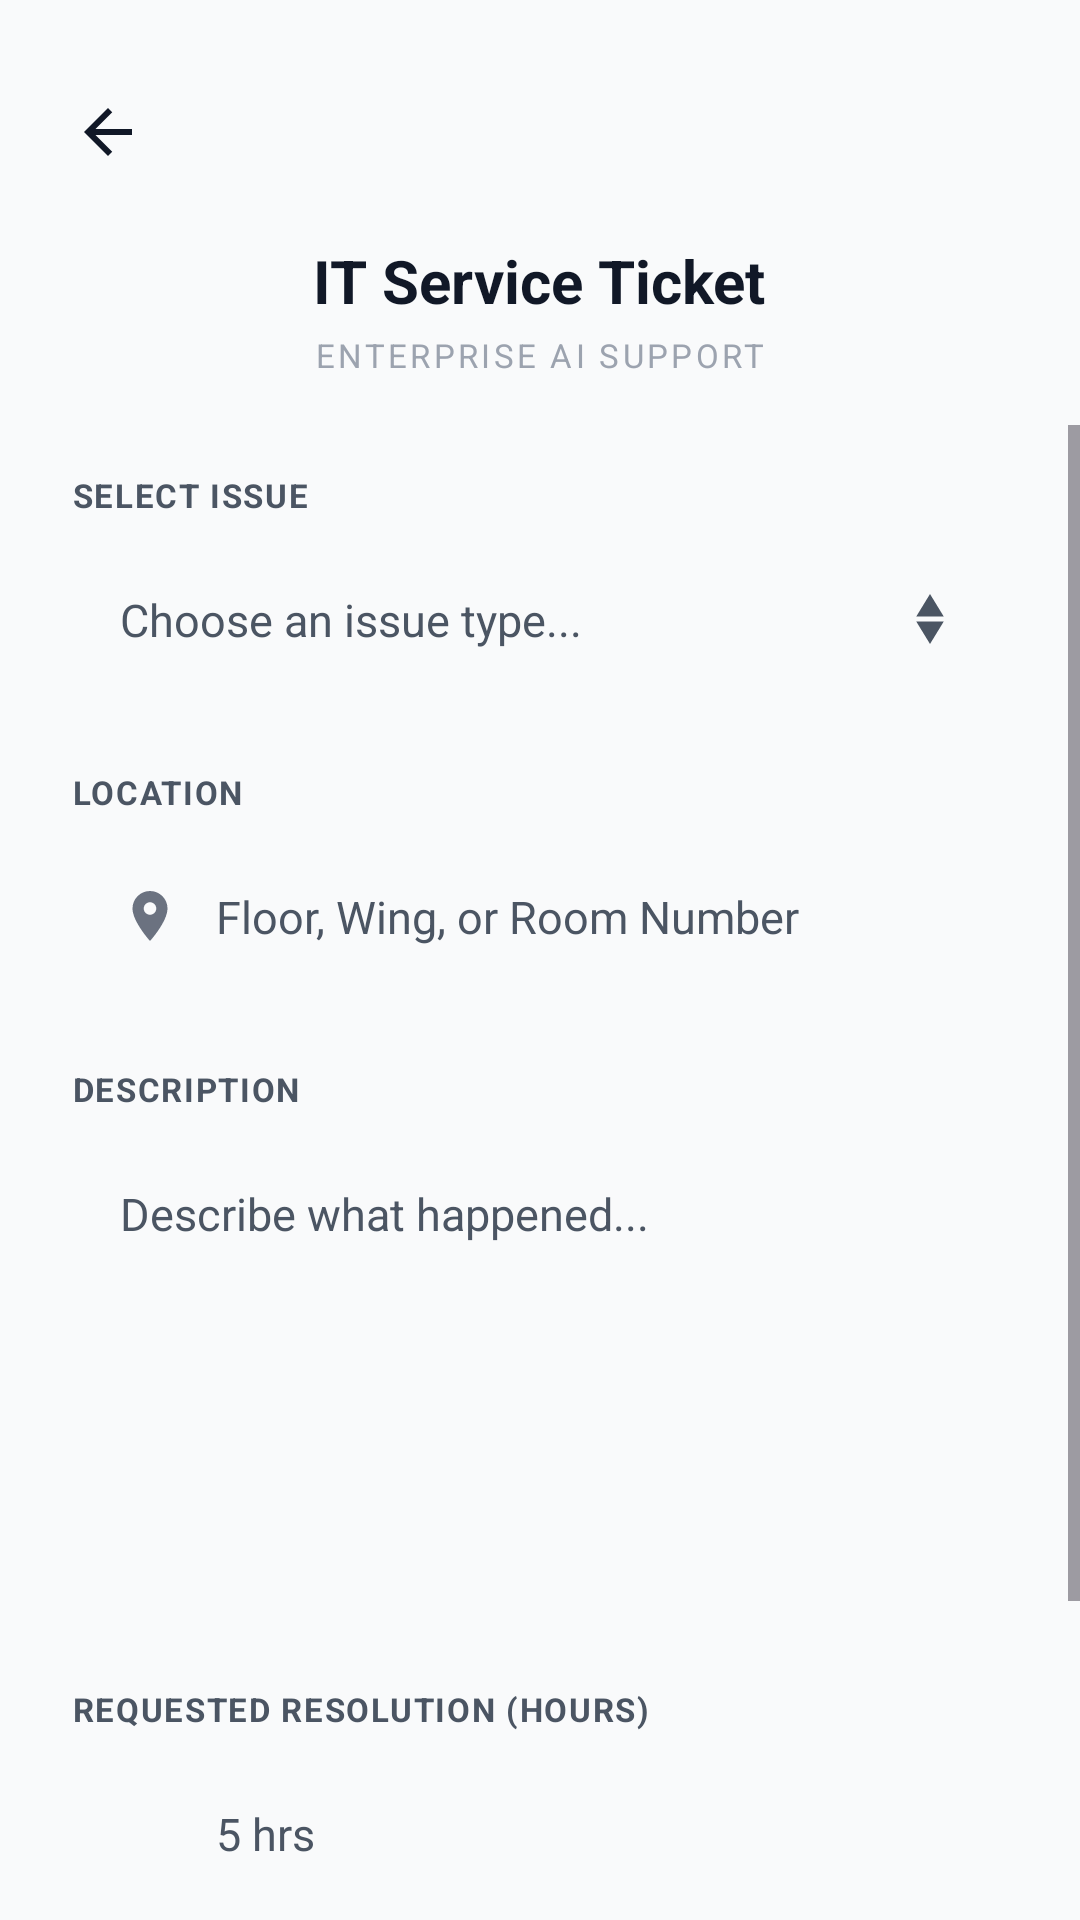

Named icons in this screenshot (1080px×1920px) and their centers, [x,y]:
Back: [108,132]
dropdown: [930,619]
